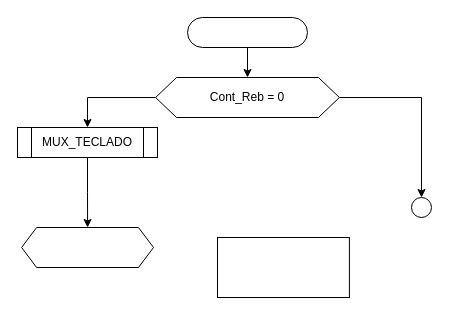
This 449x315 diagram has some shape labels left out. The box of each missing label's shape, as (x1, y1, x2, y2) in pixels:
TAREA_TECLADO: (186, 16, 308, 48)
Tecla = $FF: (21, 226, 154, 268)
